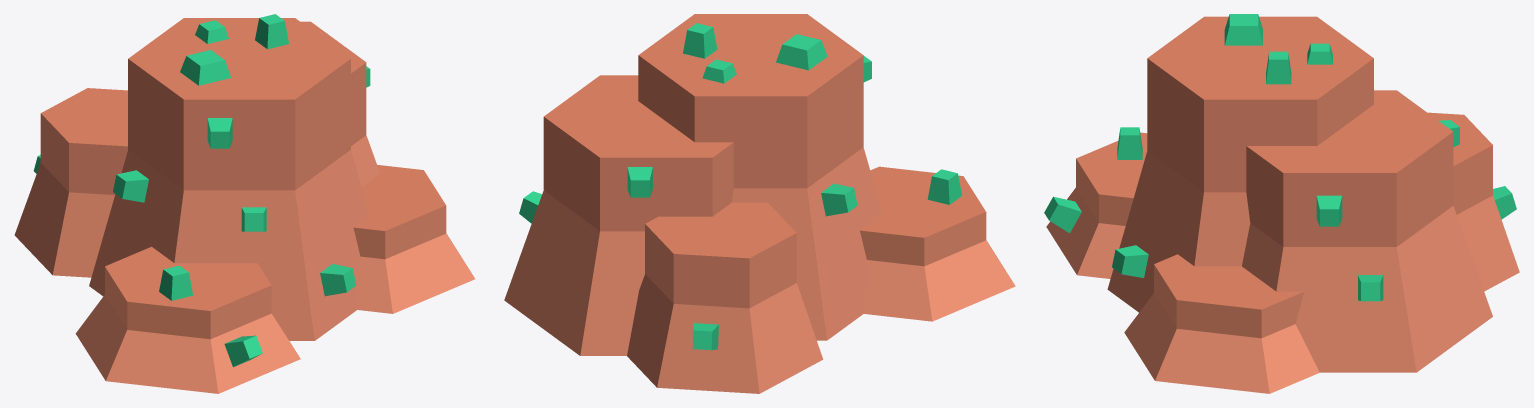
File: rock_crystalsLargeB.glb
The picture shows the model from 3 angles, left to right: view 1: azimuth 30°, elevation 25°; view 2: azimuth 150°, elevation 25°; view 3: azimuth 270°, elevation 25°; orthographic projection.
Parts seen in each view (by area): view 1: rock_crystalsLargeB; view 2: rock_crystalsLargeB; view 3: rock_crystalsLargeB.
Boxes of the visible parts, <box> form: rock_crystalsLargeB: <box>14,14,474,393</box>; rock_crystalsLargeB: <box>504,14,1015,393</box>; rock_crystalsLargeB: <box>1044,14,1519,393</box>.
Bounding box in the file's own units: 0.9393 × 0.55 × 0.9321.
